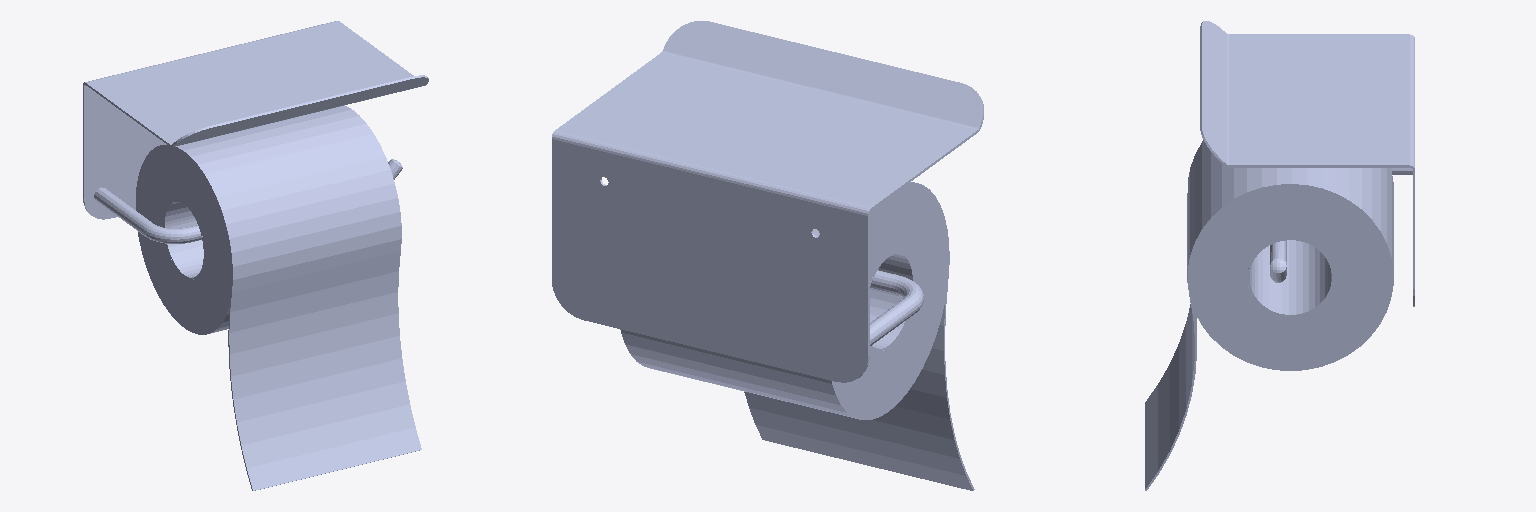
robot.urdf — toilet_paper_holder:
<robot
  name="toilet_paper_holder">
  <link
    name="toilet_paper_holder">
    <inertial>
      <origin
        xyz="-0.0025165 -0.041348 -0.037396"
        rpy="0 0 0" />
      <mass
        value="0.44801" />
      <inertia
        ixx="0.00106750859979154"
        ixy="-2.71421413359639E-05"
        ixz="3.37900611799239E-05"
        iyy="0.00131900188948131"
        iyz="-1.27461967714021E-05"
        izz="0.00128012606597175" />
    </inertial>
    <visual>
      <origin
        xyz="0 0 0"
        rpy="0 0 0" />
      <geometry>
        <mesh
          filename="package://toilet_paper_holder/meshes/toilet_paper_holder.dae" />
      </geometry>
      <material
        name="">
        <color
          rgba="0.79216 0.81961 0.93333 1" />
      </material>
    </visual>
    <collision>
      <origin
        xyz="0 0 0"
        rpy="0 0 0" />
      <geometry>
        <mesh
          filename="package://toilet_paper_holder/meshes/toilet_paper_holder.dae" />
      </geometry>
    </collision>
  </link>
</robot>

--- Render facts (derived) ---
Views: 3 orthographic renders of the robot side by side, from view 1: azimuth 30°, elevation 25°; view 2: azimuth 150°, elevation 25°; view 3: azimuth 270°, elevation 25°.
Robot: toilet_paper_holder — 1 links, 0 joints (none); root link toilet_paper_holder; default pose: all joints at 0.
Visible links, largest first — view 1: toilet_paper_holder; view 2: toilet_paper_holder; view 3: toilet_paper_holder.
Link boxes in pixels (x1,y1,x2,y2): toilet_paper_holder: (83,21,428,490); toilet_paper_holder: (552,21,983,490); toilet_paper_holder: (1145,21,1414,490).
Bounding box of the posed robot: 0.1504 × 0.1309 × 0.198 m (x, y, z).
1 mesh visuals loaded from 1 distinct referenced files (1 Collada DAE).